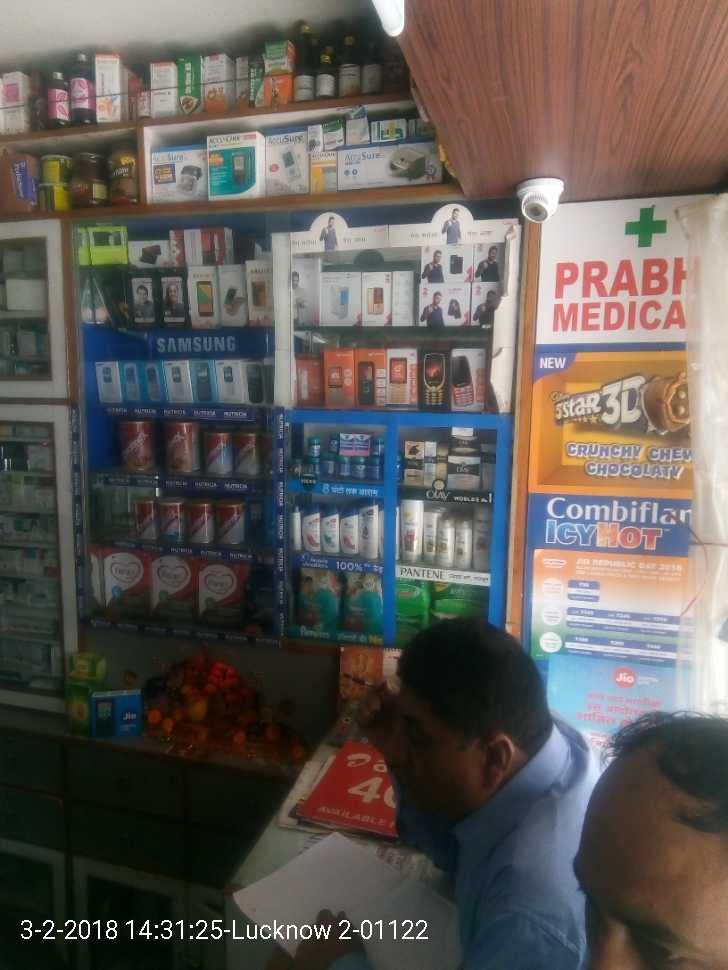beauty: (400, 500, 426, 564), (442, 452, 483, 492), (434, 513, 456, 567), (358, 502, 378, 561), (301, 504, 324, 553), (340, 505, 361, 556), (319, 502, 340, 550)
pharmacy: (293, 564, 342, 630)
